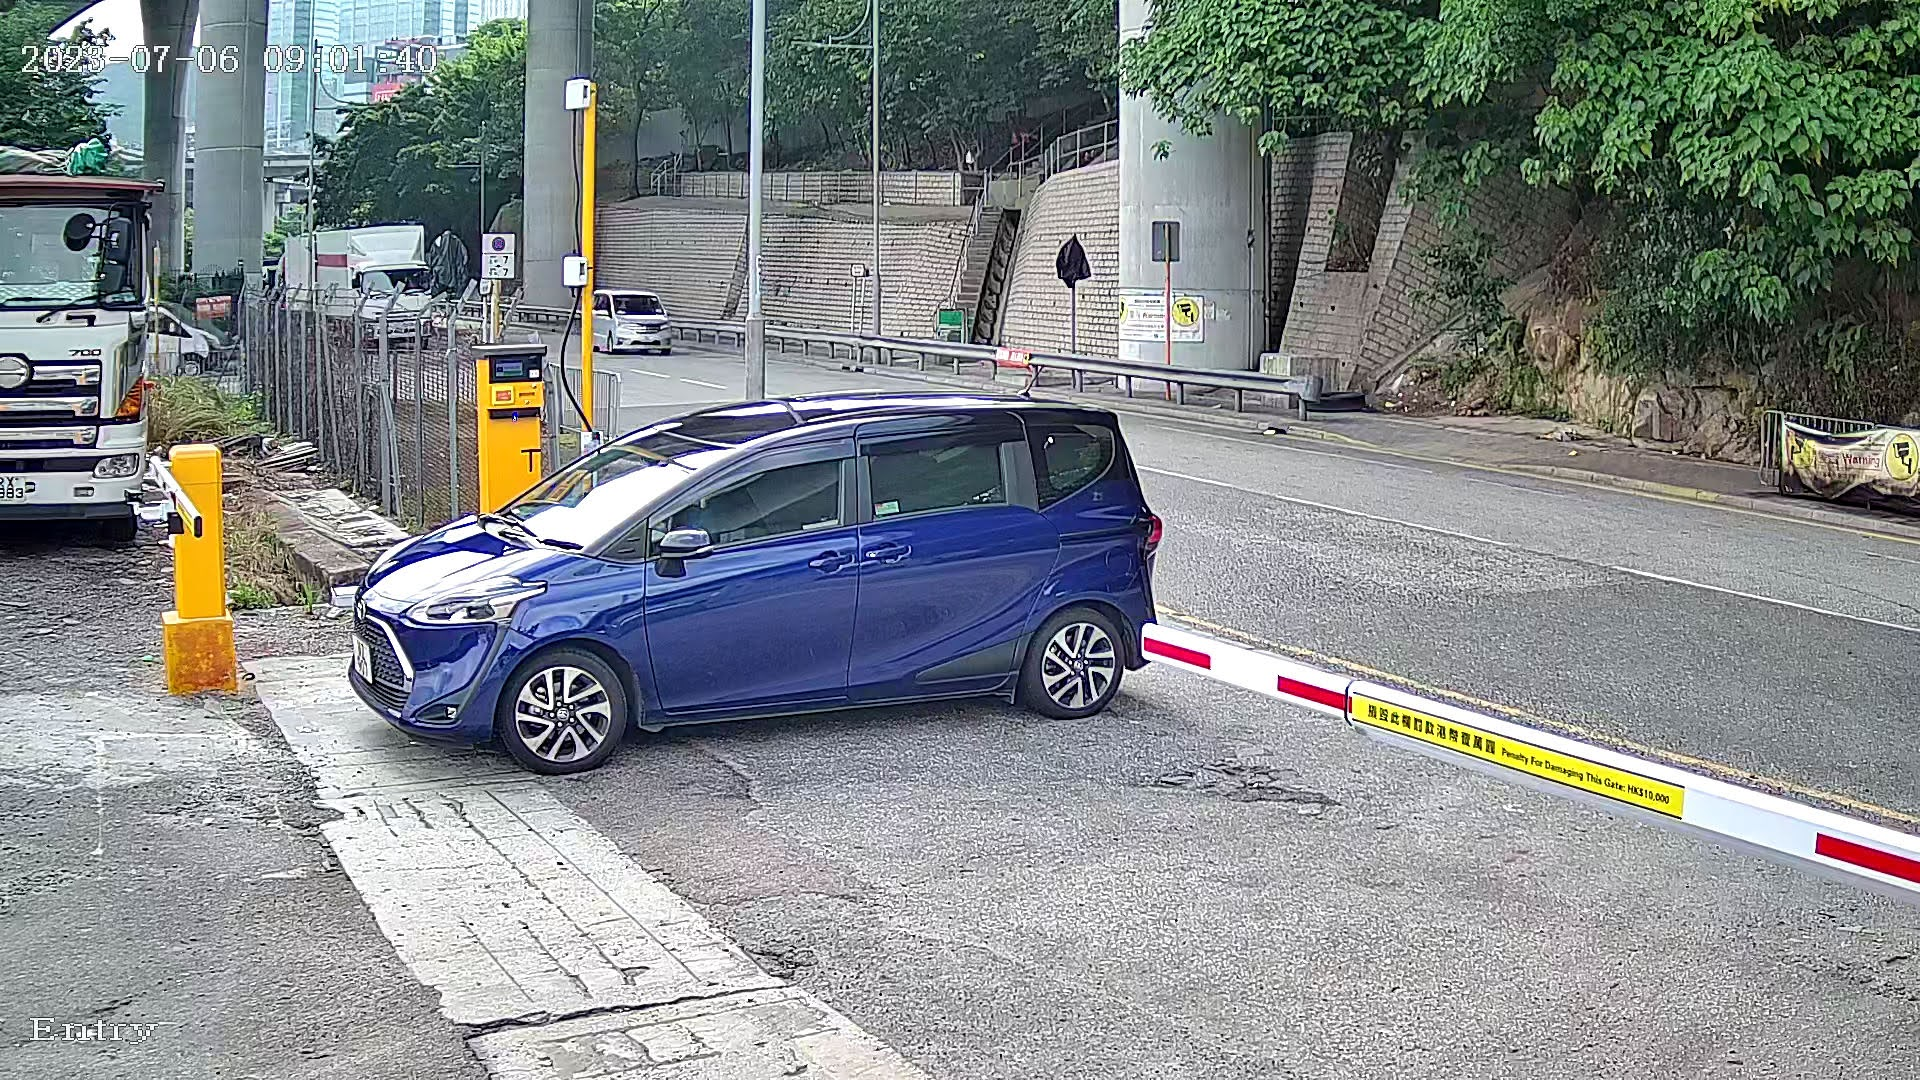privatecar: (344, 349, 1201, 793)
